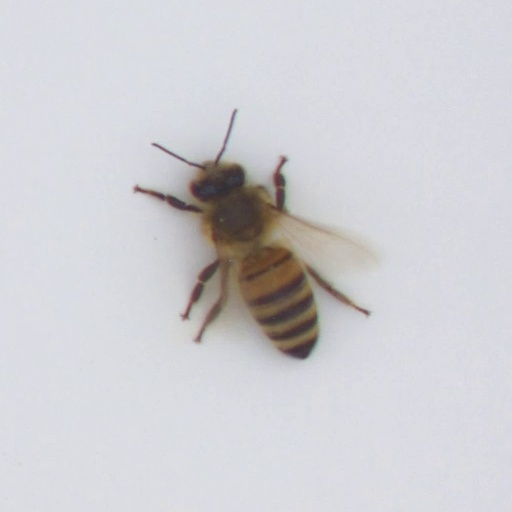Bee: (187, 160, 323, 354)
Thorax: (209, 191, 271, 251)
